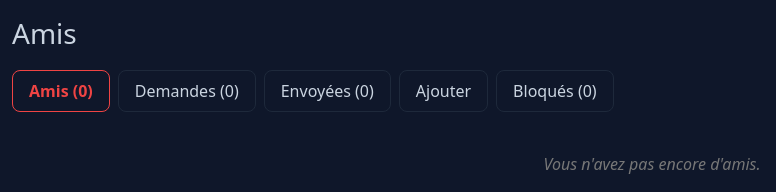
Test case: FriendsPage › shows empty state when no pending requests
Click the button with class "tab" showing "Demandes (0)": (187, 91) [118,70,256,112]
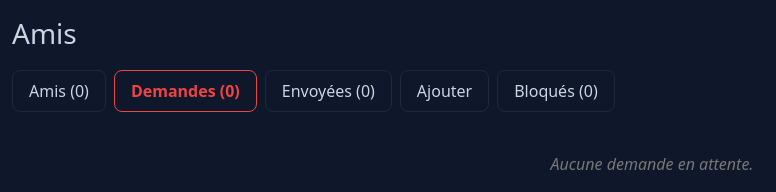
Result: the text "Aucune demande en attente" is shown at [550,153,754,175]
